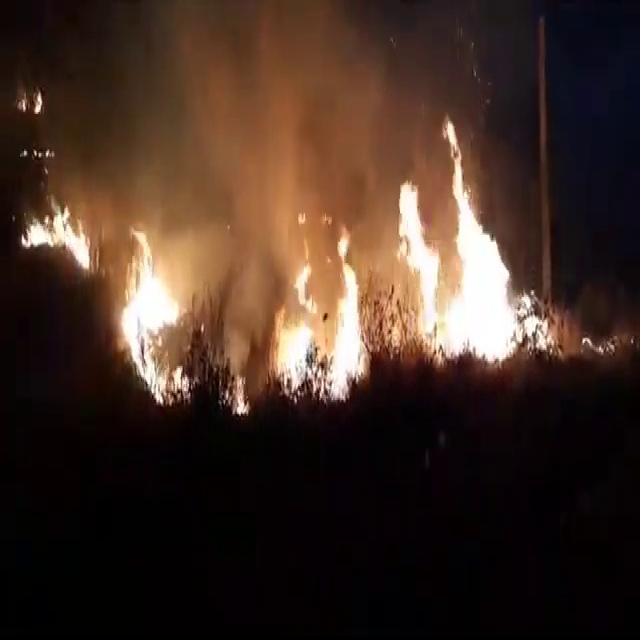Fire: (394, 112, 546, 364), (278, 236, 366, 398), (118, 226, 190, 409), (23, 200, 91, 268), (230, 377, 250, 418), (18, 87, 45, 116)
Smoke: (51, 0, 455, 240)
